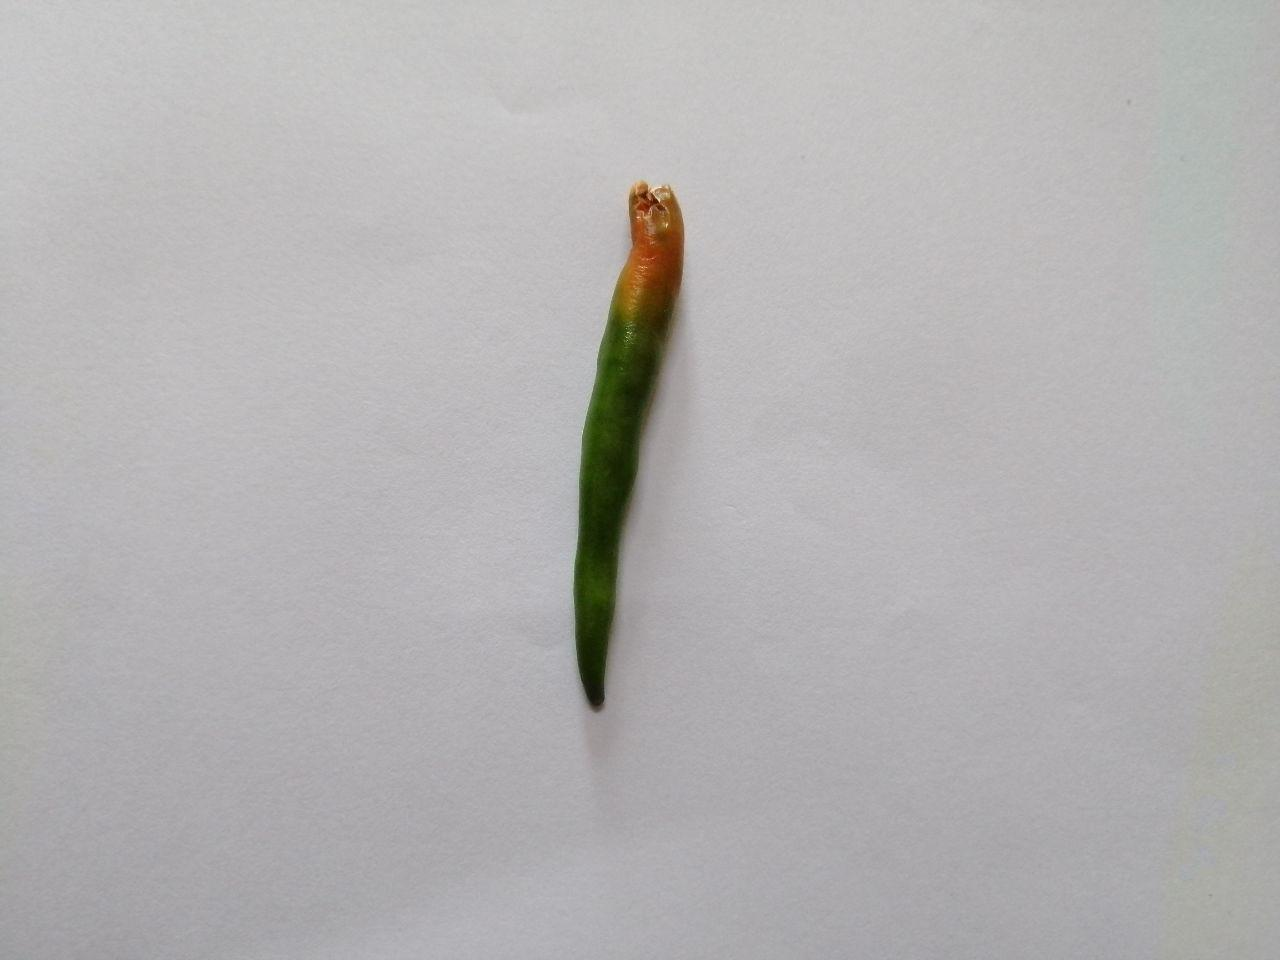lada hijau: (560, 137, 700, 740)
